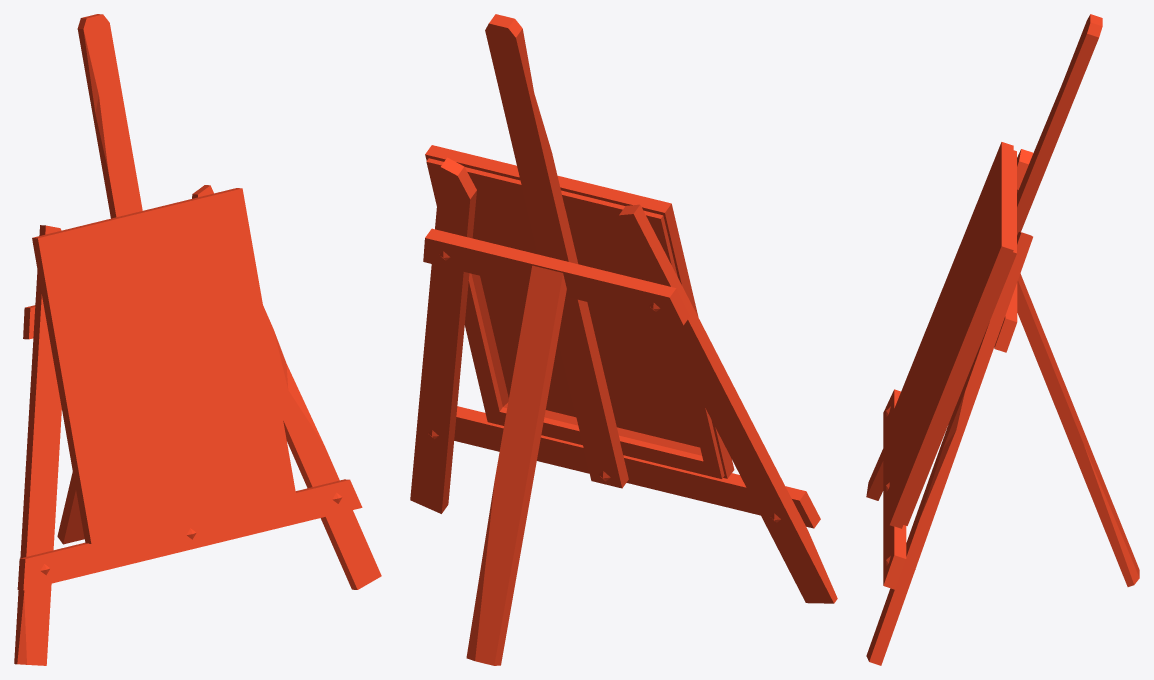
The model's file is SM_Canvas_City.fbx.
3 renders of one model, left to right at view 1: azimuth 30°, elevation 25°; view 2: azimuth 150°, elevation 25°; view 3: azimuth 270°, elevation 25°, orthographic. The views are drawn at different scales.
Parts seen in each view (by area): view 1: SM_Canvas_City; view 2: SM_Canvas_City; view 3: SM_Canvas_City.
Part boxes in pixels (x1,y1,x2,y2): SM_Canvas_City: (14, 14, 381, 665); SM_Canvas_City: (410, 14, 837, 665); SM_Canvas_City: (866, 14, 1139, 665).
Bounding box in the file's own units: 0.6288 × 0.8927 × 0.3929.
